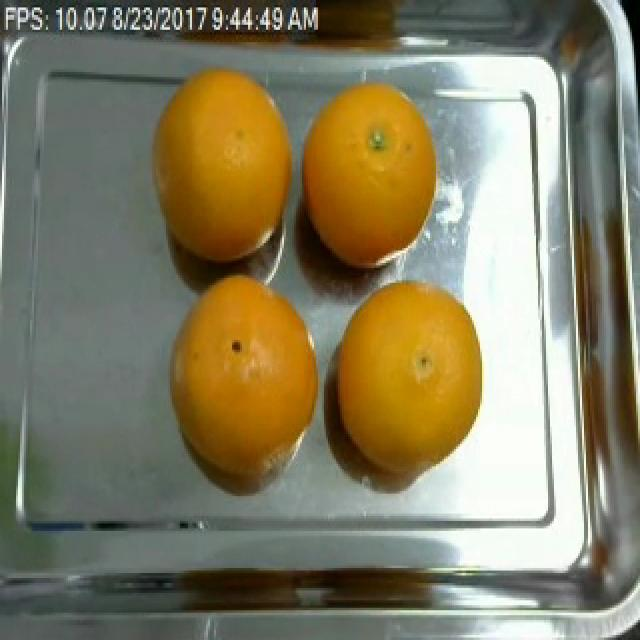Fruit: (318, 260, 492, 477), (136, 45, 300, 270), (290, 60, 446, 285)
